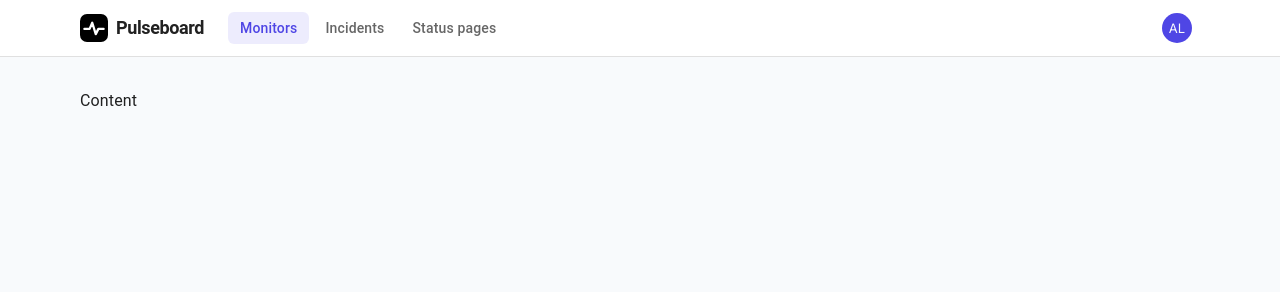
Test: the account menu offers System, Light and Dark themes
This screenshot has width=1280, height=292.
Click the button with aria-label "Account menu": x=1177, y=28 [1154,5,1200,51]
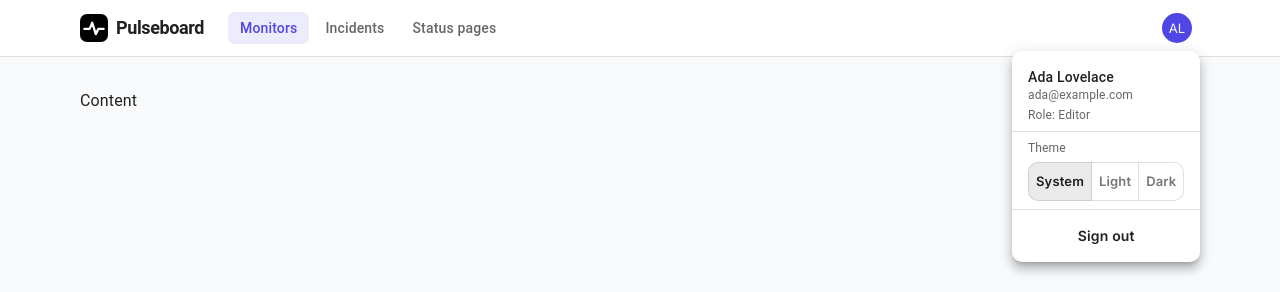
expect the element named "Theme" is shown: met, box [1028,162,1184,201]
expect the button "System" is shown: met, box [1028,162,1092,201]
expect the button "Light" is shown: met, box [1091,162,1139,201]
